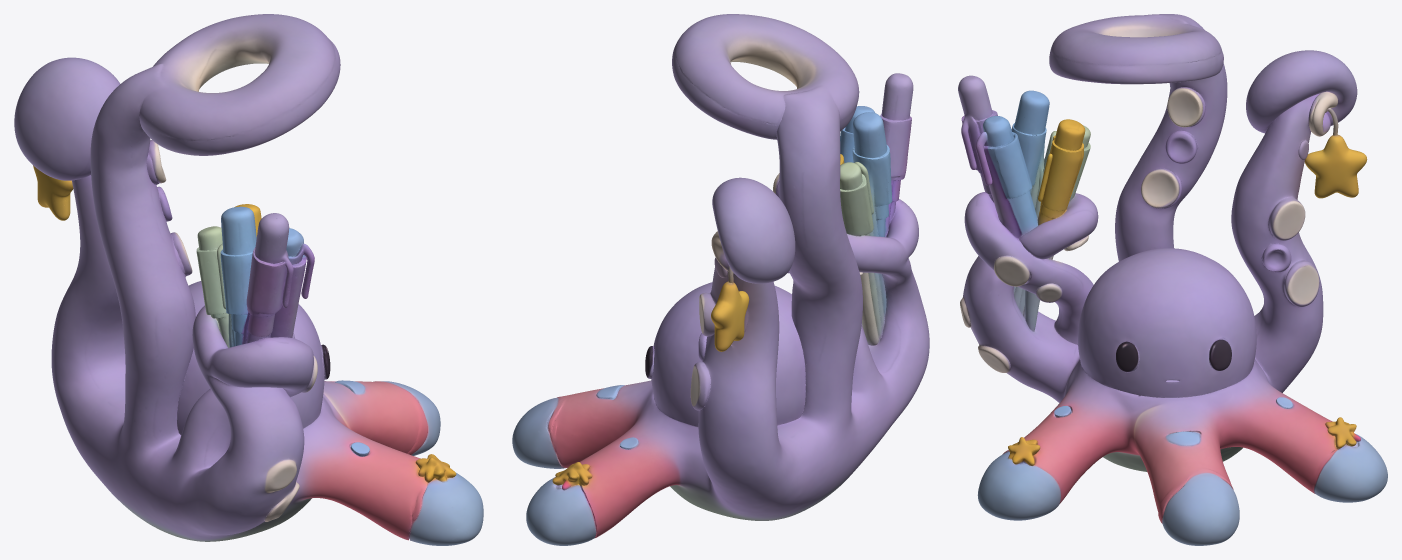
3 renders of one model, left to right at view 1: azimuth 30°, elevation 25°; view 2: azimuth 150°, elevation 25°; view 3: azimuth 270°, elevation 25°, orthographic. The views are drawn at different scales.
Visible parts, largest first — view 1: vizcom_node_0; view 2: vizcom_node_0; view 3: vizcom_node_0.
Part boxes in pixels (bbox=[...]): vizcom_node_0: bbox=[14, 14, 483, 545]; vizcom_node_0: bbox=[512, 14, 929, 545]; vizcom_node_0: bbox=[958, 14, 1387, 545].
Size of the model in its own units: 1.52 by 2 by 1.79.
1 material, 1 textured.
